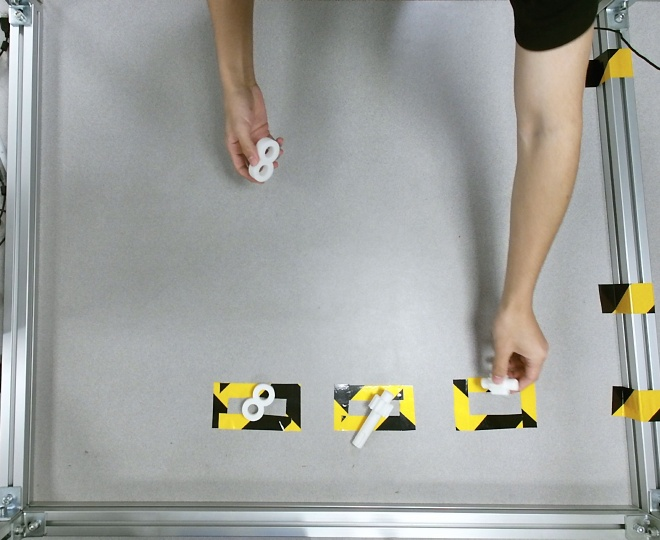stage_1: (249, 137, 279, 182)
